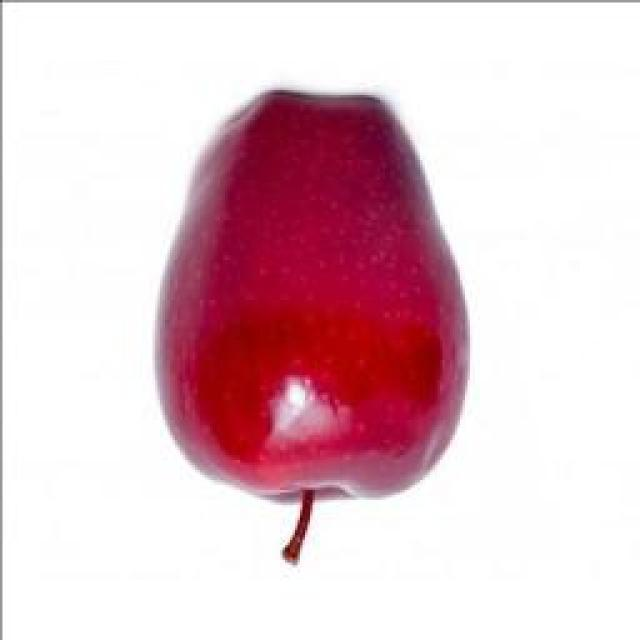Apple: (156, 91, 468, 563)
